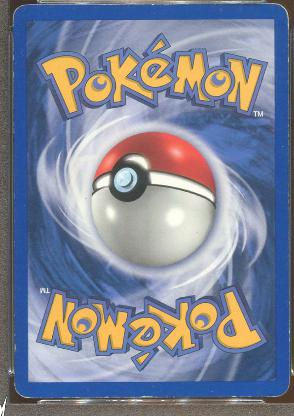Card: (10, 1, 292, 402)
Corner Wear: (268, 2, 289, 30), (13, 378, 37, 400), (12, 2, 28, 26)
Edge Wear: (134, 395, 252, 397), (85, 3, 189, 5), (13, 295, 16, 357), (286, 190, 288, 263), (13, 36, 15, 98), (285, 114, 288, 154), (286, 300, 288, 358), (285, 42, 287, 70), (87, 395, 110, 397), (57, 396, 80, 398), (12, 116, 14, 134), (13, 190, 15, 204)
